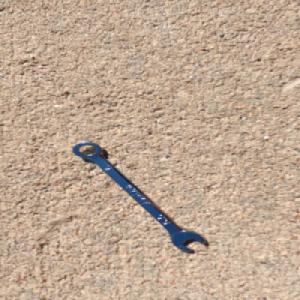Wrench: (68, 139, 209, 253)
